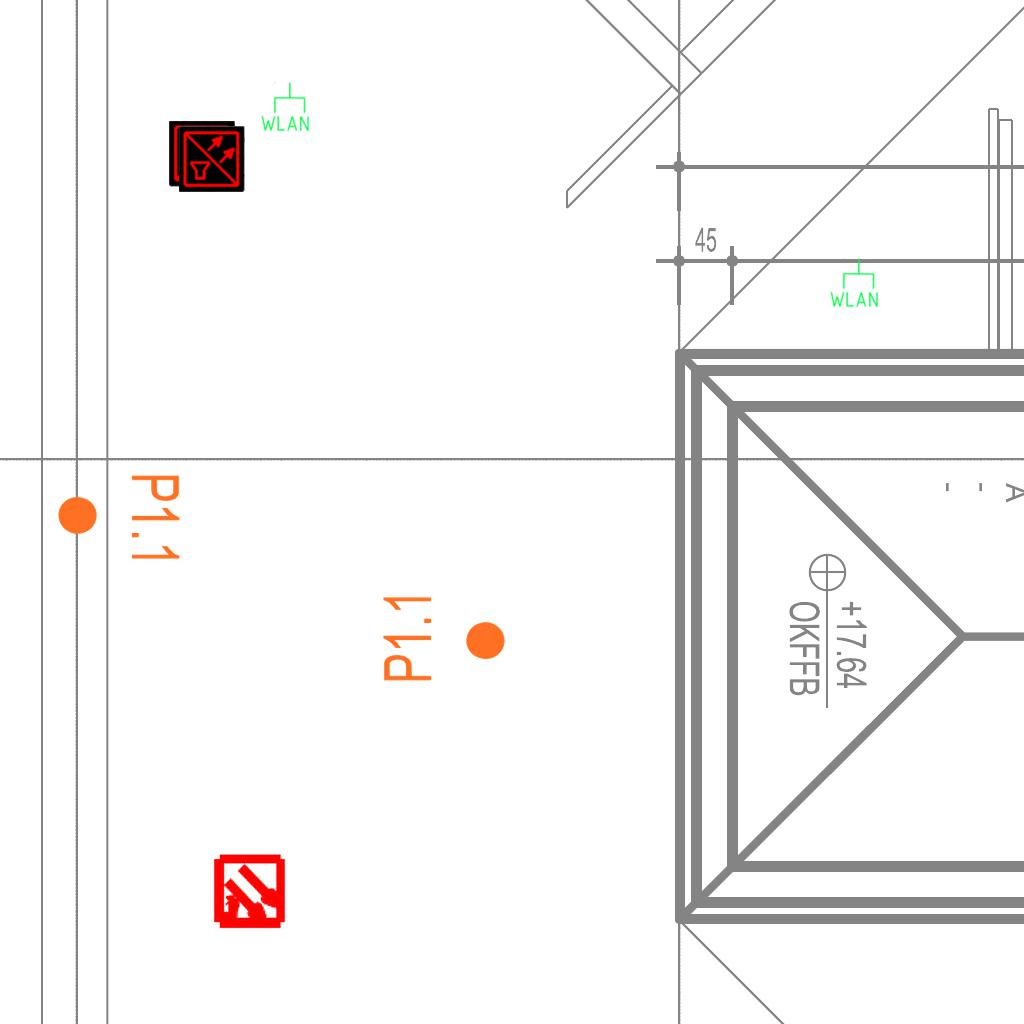Downlight_LED_Einbauleuchten_Flur: (55, 472, 183, 565), (380, 591, 508, 684)
OKW_Multisensormelder_(Kombination_optischer_Rauch-Kahlenmonoxid_Waerme-Melder): (169, 121, 235, 187), (179, 126, 245, 192)
OT_Multisensormelder_(Kombination_RMO_WMD): (193, 837, 306, 950)
WLAN: (259, 81, 311, 133), (828, 257, 880, 309)
